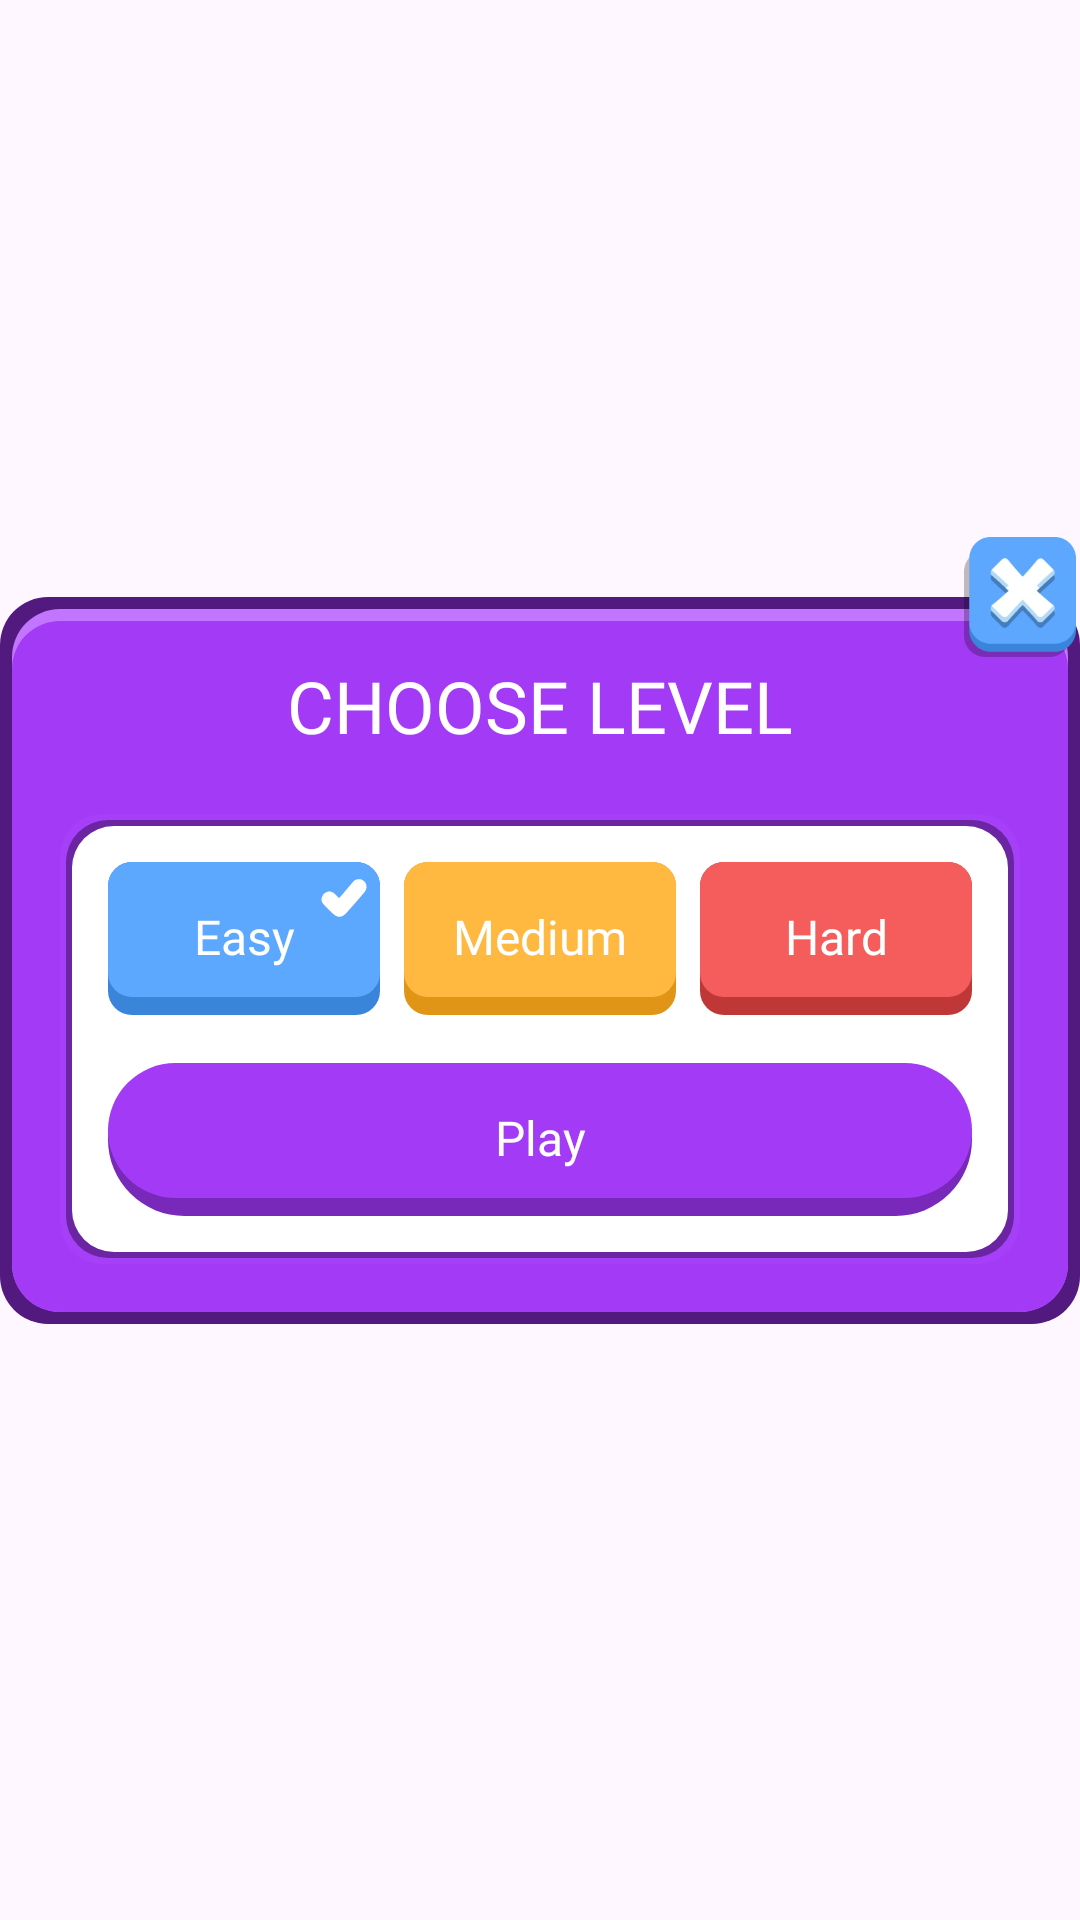

Point at icon controls on the screen. Image size 1080×1920, points as (x,y).
done: (344,898)
exit: (1020,597)
